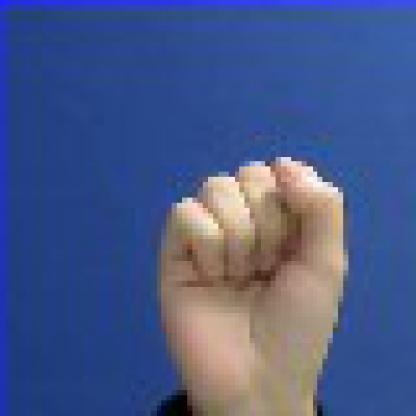zero: (116, 114, 404, 409)
